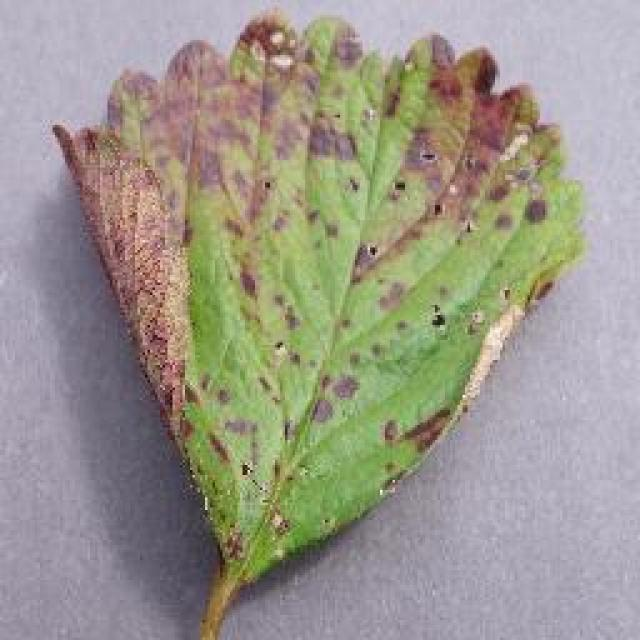Strawberry leaf scorch: (140, 95, 507, 405)
